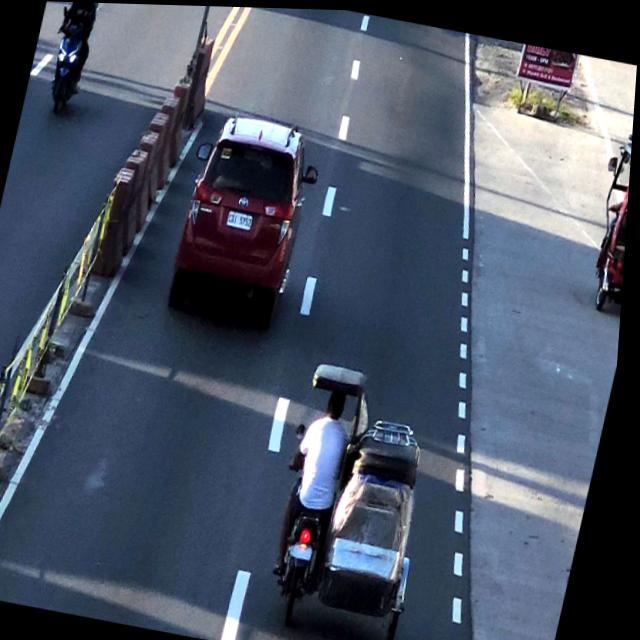Car: (165, 107, 326, 326)
License-Plate: (294, 537, 324, 561), (228, 208, 257, 230)
Tricycle: (262, 360, 462, 640)
